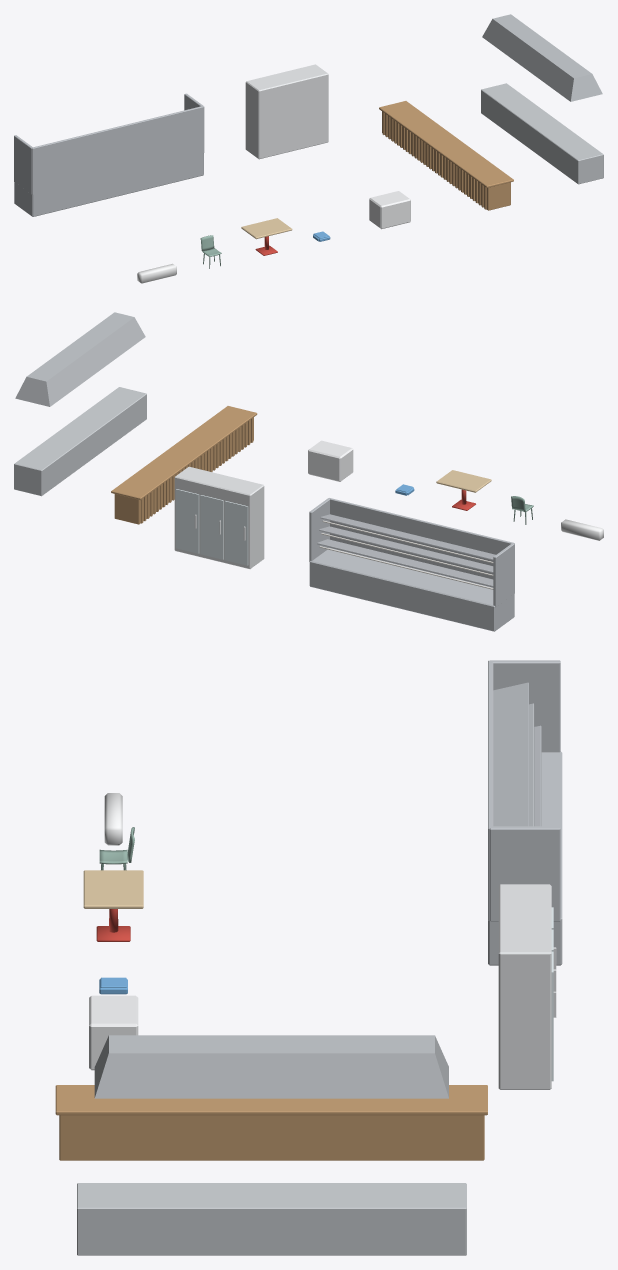
The model's file is Shop_Interior_Furniture.glb.
The picture shows the model from 3 angles, top to bottom: view 1: azimuth 30°, elevation 25°; view 2: azimuth 150°, elevation 25°; view 3: azimuth 270°, elevation 25°; orthographic projection. The views are drawn at different scales.
Visible parts, largest first — view 1: Shop_Chiller_4Tier, Shop_Fridge_3Door, Shop_Counter_WoodSlat, Shop_KitchenCounter, Shop_ExhaustHood, Shop_IceCreamFreezer, Shop_DiningTable_Top, Shop_SplitAC; view 2: Shop_Chiller_4Tier, Shop_Counter_WoodSlat, Shop_KitchenCounter, Shop_ExhaustHood, Shop_Fridge_3Door_Glass, Shop_Fridge_3Door, Shop_IceCreamFreezer, Shop_Chiller_LED, Shop_DiningTable_Top, Shop_SplitAC; view 3: Shop_KitchenCounter, Shop_Counter_WoodSlat, Shop_ExhaustHood, Shop_Chiller_4Tier, Shop_Fridge_3Door, Shop_IceCreamFreezer, Shop_DiningTable_Top, Shop_SplitAC.
Boxes of the visible parts, left/top/right/bottom form: Shop_Chiller_4Tier: left=14, top=93, right=204, bottom=216; Shop_Fridge_3Door: left=245, top=64, right=328, bottom=159; Shop_Counter_WoodSlat: left=379, top=101, right=513, bottom=210; Shop_KitchenCounter: left=481, top=83, right=603, bottom=184; Shop_ExhaustHood: left=482, top=14, right=602, bottom=101; Shop_IceCreamFreezer: left=369, top=191, right=410, bottom=229; Shop_DiningTable_Top: left=241, top=218, right=292, bottom=239; Shop_SplitAC: left=137, top=263, right=176, bottom=283; Shop_Chiller_4Tier: left=309, top=498, right=514, bottom=631; Shop_Counter_WoodSlat: left=111, top=406, right=257, bottom=524; Shop_KitchenCounter: left=14, top=387, right=146, bottom=496; Shop_ExhaustHood: left=15, top=312, right=145, bottom=406; Shop_Fridge_3Door_Glass: left=176, top=489, right=248, bottom=565; Shop_Fridge_3Door: left=174, top=466, right=264, bottom=568; Shop_IceCreamFreezer: left=308, top=440, right=353, bottom=481; Shop_Chiller_LED: left=319, top=520, right=493, bottom=589; Shop_DiningTable_Top: left=436, top=470, right=491, bottom=492; Shop_SplitAC: left=561, top=519, right=603, bottom=540; Shop_KitchenCounter: left=77, top=1183, right=466, bottom=1255; Shop_Counter_WoodSlat: left=55, top=1085, right=487, bottom=1160; Shop_ExhaustHood: left=94, top=1035, right=448, bottom=1098; Shop_Chiller_4Tier: left=488, top=660, right=562, bottom=965; Shop_Fridge_3Door: left=498, top=884, right=556, bottom=1089; Shop_IceCreamFreezer: left=89, top=995, right=138, bottom=1070; Shop_DiningTable_Top: left=83, top=870, right=143, bottom=908; Shop_SplitAC: left=104, top=793, right=122, bottom=845.
Bounding box in the file's own units: 17.25 × 3.47 × 8.
